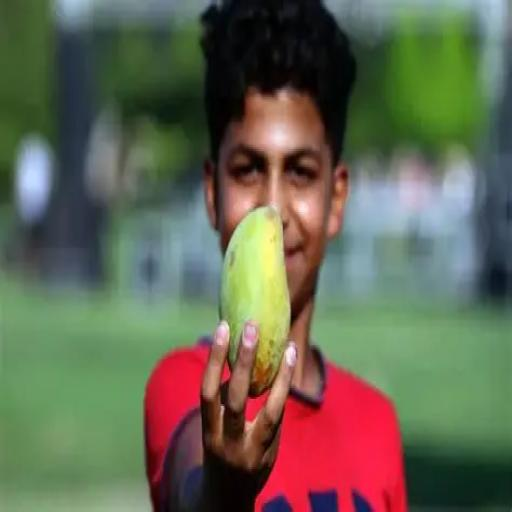mango: (220, 207, 290, 397)
